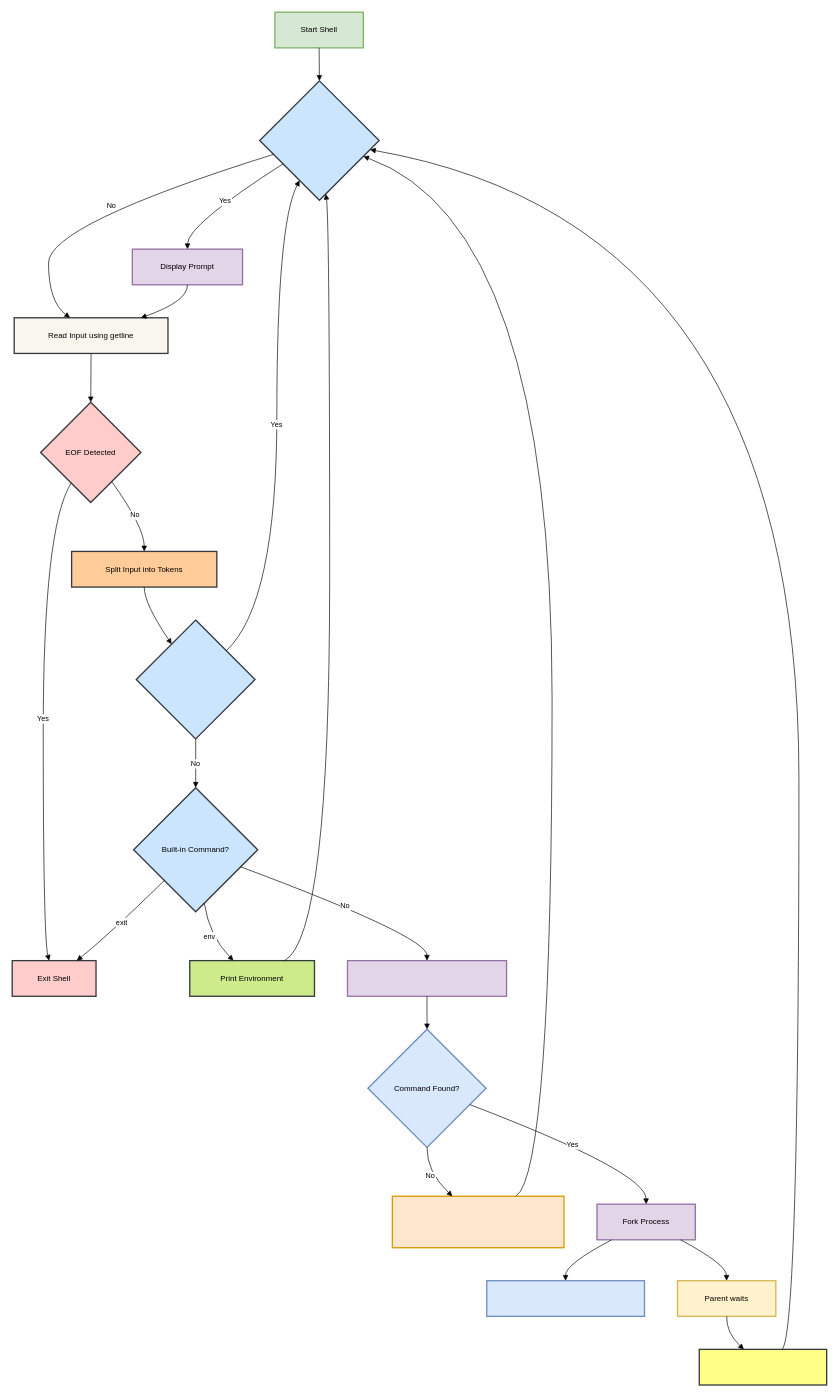
This 838x1397 diagram has some shape labels left out. Each missing label, with the box of its shape:
Child executes command: (486, 1280, 645, 1317)
Empty Command?: (135, 619, 255, 739)
Interactive Mode?: (259, 80, 380, 201)
Print Error and set status 127: (391, 1195, 564, 1248)
Search Command in PATH: (346, 960, 507, 997)
Update Exit Status: (698, 1348, 827, 1385)
